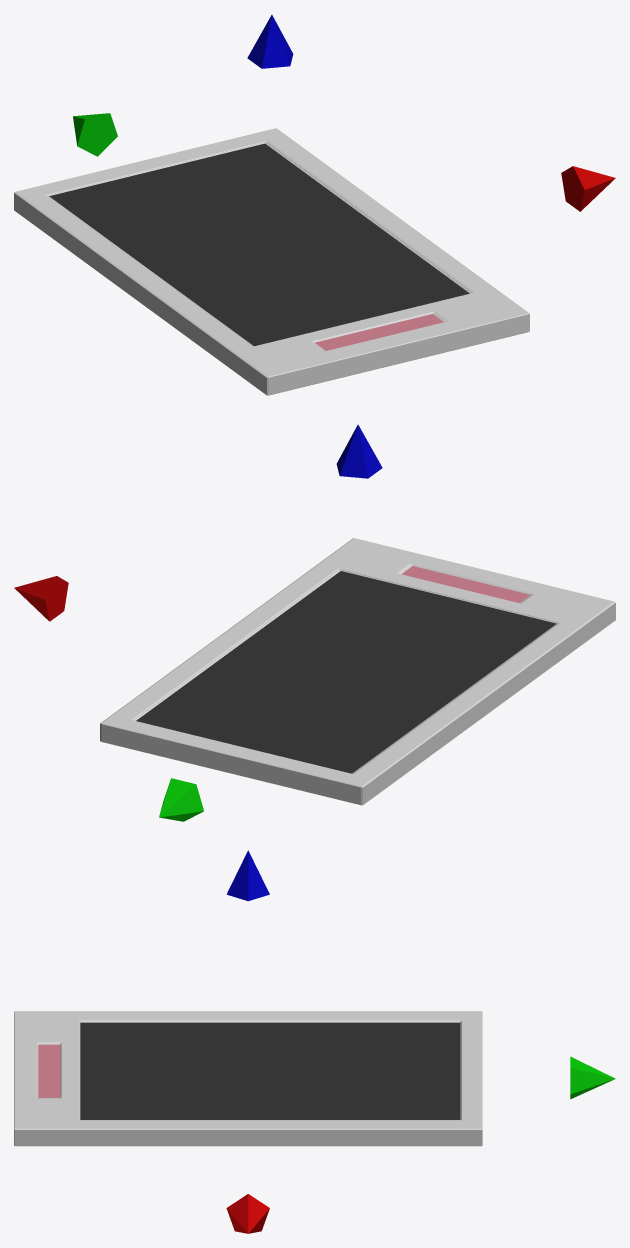
The model's file is phone.dae.
3 renders of one model, top to bottom at view 1: azimuth 30°, elevation 25°; view 2: azimuth 150°, elevation 25°; view 3: azimuth 270°, elevation 25°, orthographic. The views are drawn at different scales.
Visible parts, largest first — view 1: Cube, Cone_002, Cone, Cone_001; view 2: Cube, Cone_002, Cone, Cone_001; view 3: Cube, Cone_002, Cone, Cone_001.
Part boxes in pixels (x1,y1,x2,y2): Cube: [14, 128, 529, 395]; Cone_002: [561, 166, 615, 211]; Cone: [247, 15, 293, 68]; Cone_001: [73, 113, 117, 156]; Cube: [100, 538, 615, 805]; Cone_002: [14, 576, 68, 621]; Cone: [336, 424, 382, 478]; Cone_001: [159, 778, 203, 821]; Cube: [14, 1011, 482, 1146]; Cone_002: [226, 1194, 269, 1233]; Cone: [226, 850, 269, 901]; Cone_001: [570, 1056, 615, 1099].
Bounding box in the file's own units: 2.17 × 2.57 × 1.18.
